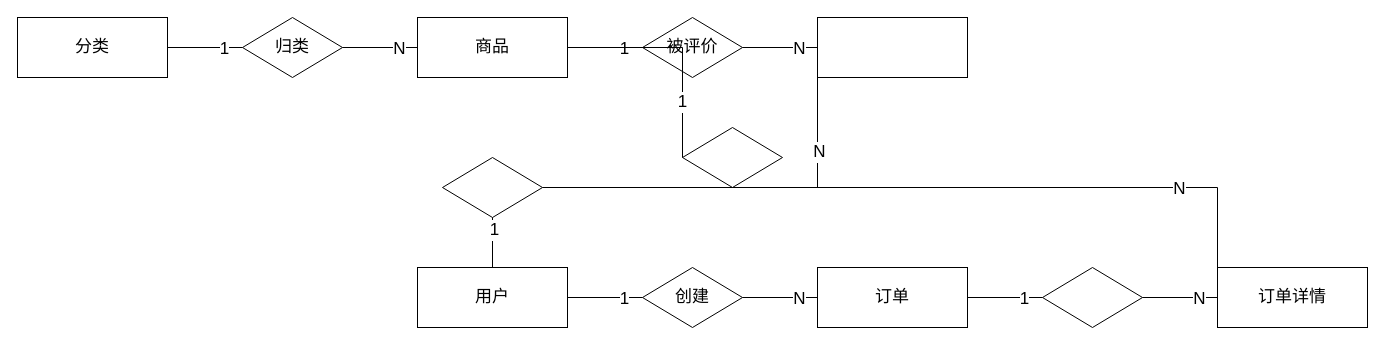
Image size: 1385x345. Some labels were removed from this diagram. Each missing label, with the centre of its shape:
包含: the point at 1092,297
发表: the point at 492,187
属于: the point at 732,157
评价: the point at 892,47
